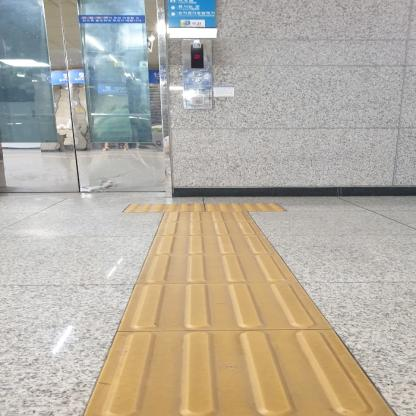go: (84, 329, 397, 416), (114, 282, 332, 331), (136, 234, 298, 284), (154, 211, 264, 236)
